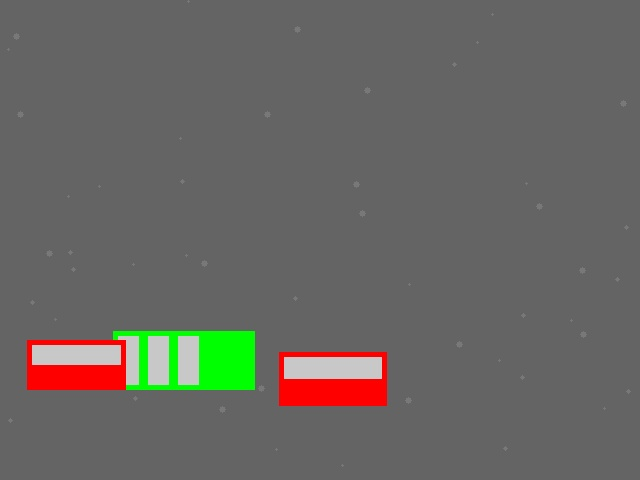bus: (113, 331, 254, 389)
car: (279, 352, 386, 405), (27, 340, 125, 389)
